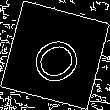O_NE: (22, 24, 88, 86)
